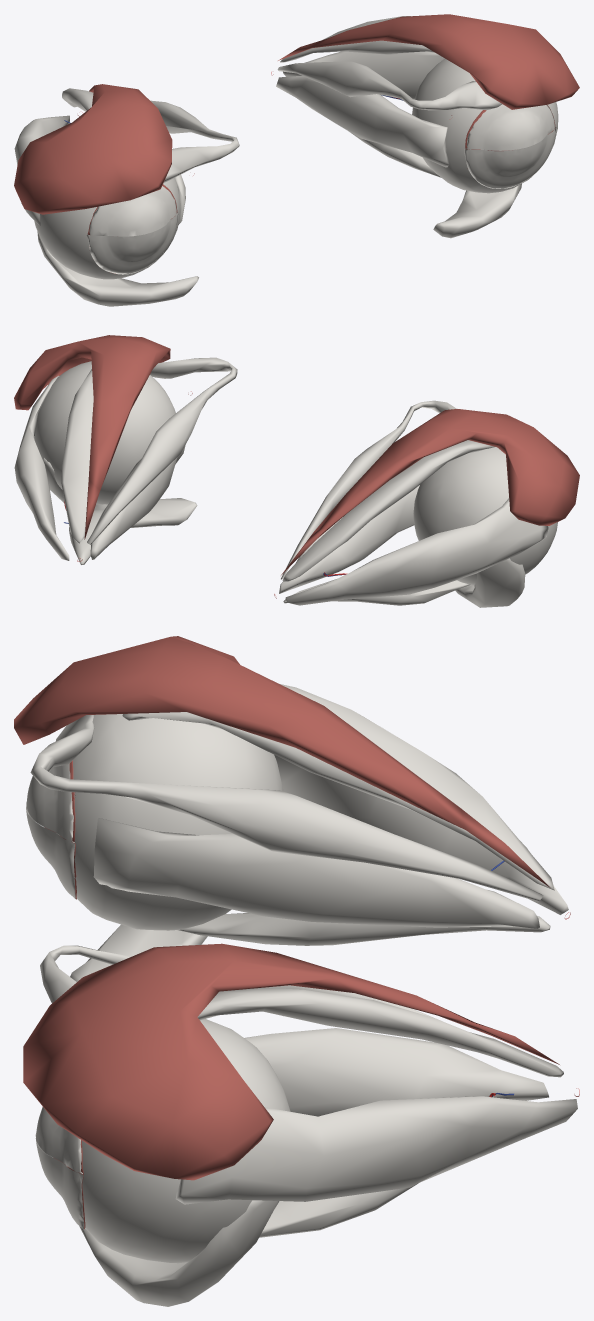
The model's file is adult_female.sensory.LOD2.glb.
3 renders of one model, top to bottom at view 1: azimuth 30°, elevation 25°; view 2: azimuth 150°, elevation 25°; view 3: azimuth 270°, elevation 25°, orthographic. The views are drawn at different scales.
Parts seen in each view (by area): view 1: ADULT.FEMALE.SENSORY.LEVATOR_PALPEBRAE_SUPERIORIS.R, ADULT.FEMALE.SENSORY.LEVATOR_PALPEBRAE_SUPERIORIS.L, ADULT.FEMALE.SENSORY.MEDIAL_RECTUS_EXTRAOCULAR_MUSCLE.L, ADULT.FEMALE.SENSORY.SCLERA.L, ADULT.FEMALE.SENSORY.SUPERIOR_OBLIQUE_EXTRAOCULAR_MUSCLE.L, ADULT.FEMALE.SENSORY.SCLERA.R, ADULT.FEMALE.SENSORY.INFERIOR_OBLIQUE_EXTRAOCULAR_MUSCLE.R, ADULT.FEMALE.SENSORY.PALPEBRAL_CONJUNCTIVA_OF_LEFT_UPPER_EYE, ADULT.FEMALE.SENSORY.PALPEBRAL_CONJUNCTIVA_OF_RIGHT_UPPER_EY, ADULT.FEMALE.SENSORY.PALPEBRAL_CONJUNCTIVA_OF_LEFT_LOWER_EYE, ADULT.FEMALE.SENSORY.PALPEBRAL_CONJUNCTIVA_OF_RIGHT_LOWER_EY, ADULT.FEMALE.SENSORY.LATERAL_RECTUS_EXTRAOCULAR_MUSCLE.L (+6 smaller); view 2: ADULT.FEMALE.SENSORY.LEVATOR_PALPEBRAE_SUPERIORIS.R, ADULT.FEMALE.SENSORY.LATERAL_RECTUS_EXTRAOCULAR_MUSCLE.R, ADULT.FEMALE.SENSORY.LEVATOR_PALPEBRAE_SUPERIORIS.L, ADULT.FEMALE.SENSORY.SCLERA.R, ADULT.FEMALE.SENSORY.SCLERA.L, ADULT.FEMALE.SENSORY.SUPERIOR_OBLIQUE_EXTRAOCULAR_MUSCLE.L, ADULT.FEMALE.SENSORY.SUPERIOR_RECTUS_EXTRAOCULAR_MUSCLE.R, ADULT.FEMALE.SENSORY.SUPERIOR_RECTUS_EXTRAOCULAR_MUSCLE.L, ADULT.FEMALE.SENSORY.MEDIAL_RECTUS_EXTRAOCULAR_MUSCLE.R, ADULT.FEMALE.SENSORY.LATERAL_RECTUS_EXTRAOCULAR_MUSCLE.L, ADULT.FEMALE.SENSORY.SUPERIOR_OBLIQUE_EXTRAOCULAR_MUSCLE.R, ADULT.FEMALE.SENSORY.MEDIAL_RECTUS_EXTRAOCULAR_MUSCLE.L (+4 smaller); view 3: ADULT.FEMALE.SENSORY.LEVATOR_PALPEBRAE_SUPERIORIS.L, ADULT.FEMALE.SENSORY.MEDIAL_RECTUS_EXTRAOCULAR_MUSCLE.R, ADULT.FEMALE.SENSORY.LEVATOR_PALPEBRAE_SUPERIORIS.R, ADULT.FEMALE.SENSORY.LATERAL_RECTUS_EXTRAOCULAR_MUSCLE.L, ADULT.FEMALE.SENSORY.SCLERA.R, ADULT.FEMALE.SENSORY.SUPERIOR_OBLIQUE_EXTRAOCULAR_MUSCLE.R, ADULT.FEMALE.SENSORY.MEDIAL_RECTUS_EXTRAOCULAR_MUSCLE.L, ADULT.FEMALE.SENSORY.SCLERA.L, ADULT.FEMALE.SENSORY.SUPERIOR_RECTUS_EXTRAOCULAR_MUSCLE.R, ADULT.FEMALE.SENSORY.SUPERIOR_RECTUS_EXTRAOCULAR_MUSCLE.L, ADULT.FEMALE.SENSORY.LATERAL_RECTUS_EXTRAOCULAR_MUSCLE.R, ADULT.FEMALE.SENSORY.INFERIOR_OBLIQUE_EXTRAOCULAR_MUSCLE.L (+8 smaller).
Boxes of the visible parts, left/top/right/bottom form: ADULT.FEMALE.SENSORY.LEVATOR_PALPEBRAE_SUPERIORIS.R: left=14, top=84, right=172, bottom=214; ADULT.FEMALE.SENSORY.LEVATOR_PALPEBRAE_SUPERIORIS.L: left=278, top=14, right=579, bottom=109; ADULT.FEMALE.SENSORY.MEDIAL_RECTUS_EXTRAOCULAR_MUSCLE.L: left=276, top=76, right=449, bottom=167; ADULT.FEMALE.SENSORY.SCLERA.L: left=412, top=58, right=558, bottom=193; ADULT.FEMALE.SENSORY.SUPERIOR_OBLIQUE_EXTRAOCULAR_MUSCLE.L: left=277, top=61, right=502, bottom=110; ADULT.FEMALE.SENSORY.SCLERA.R: left=34, top=178, right=180, bottom=279; ADULT.FEMALE.SENSORY.INFERIOR_OBLIQUE_EXTRAOCULAR_MUSCLE.R: left=37, top=231, right=198, bottom=306; ADULT.FEMALE.SENSORY.PALPEBRAL_CONJUNCTIVA_OF_LEFT_UPPER_EYE: left=465, top=104, right=555, bottom=150; ADULT.FEMALE.SENSORY.PALPEBRAL_CONJUNCTIVA_OF_RIGHT_UPPER_EY: left=87, top=186, right=176, bottom=236; ADULT.FEMALE.SENSORY.PALPEBRAL_CONJUNCTIVA_OF_LEFT_LOWER_EYE: left=464, top=127, right=556, bottom=188; ADULT.FEMALE.SENSORY.PALPEBRAL_CONJUNCTIVA_OF_RIGHT_LOWER_EY: left=86, top=212, right=178, bottom=274; ADULT.FEMALE.SENSORY.LATERAL_RECTUS_EXTRAOCULAR_MUSCLE.L: left=283, top=51, right=444, bottom=99; ADULT.FEMALE.SENSORY.LEVATOR_PALPEBRAE_SUPERIORIS.R: left=281, top=409, right=579, bottom=575; ADULT.FEMALE.SENSORY.LATERAL_RECTUS_EXTRAOCULAR_MUSCLE.R: left=285, top=498, right=548, bottom=605; ADULT.FEMALE.SENSORY.LEVATOR_PALPEBRAE_SUPERIORIS.L: left=14, top=335, right=170, bottom=539; ADULT.FEMALE.SENSORY.SCLERA.R: left=413, top=447, right=557, bottom=585; ADULT.FEMALE.SENSORY.SCLERA.L: left=34, top=361, right=175, bottom=504; ADULT.FEMALE.SENSORY.SUPERIOR_OBLIQUE_EXTRAOCULAR_MUSCLE.L: left=87, top=357, right=237, bottom=544; ADULT.FEMALE.SENSORY.SUPERIOR_RECTUS_EXTRAOCULAR_MUSCLE.R: left=282, top=440, right=494, bottom=581; ADULT.FEMALE.SENSORY.SUPERIOR_RECTUS_EXTRAOCULAR_MUSCLE.L: left=61, top=369, right=93, bottom=543; ADULT.FEMALE.SENSORY.MEDIAL_RECTUS_EXTRAOCULAR_MUSCLE.R: left=279, top=485, right=419, bottom=593; ADULT.FEMALE.SENSORY.LATERAL_RECTUS_EXTRAOCULAR_MUSCLE.L: left=14, top=375, right=69, bottom=560; ADULT.FEMALE.SENSORY.SUPERIOR_OBLIQUE_EXTRAOCULAR_MUSCLE.R: left=281, top=400, right=456, bottom=579; ADULT.FEMALE.SENSORY.MEDIAL_RECTUS_EXTRAOCULAR_MUSCLE.L: left=90, top=445, right=185, bottom=559; ADULT.FEMALE.SENSORY.LEVATOR_PALPEBRAE_SUPERIORIS.L: left=23, top=943, right=559, bottom=1180; ADULT.FEMALE.SENSORY.MEDIAL_RECTUS_EXTRAOCULAR_MUSCLE.R: left=93, top=818, right=539, bottom=928; ADULT.FEMALE.SENSORY.LEVATOR_PALPEBRAE_SUPERIORIS.R: left=14, top=636, right=550, bottom=887; ADULT.FEMALE.SENSORY.LATERAL_RECTUS_EXTRAOCULAR_MUSCLE.L: left=175, top=1096, right=577, bottom=1204; ADULT.FEMALE.SENSORY.SCLERA.R: left=58, top=714, right=283, bottom=930; ADULT.FEMALE.SENSORY.SUPERIOR_OBLIQUE_EXTRAOCULAR_MUSCLE.R: left=30, top=715, right=543, bottom=901; ADULT.FEMALE.SENSORY.MEDIAL_RECTUS_EXTRAOCULAR_MUSCLE.L: left=244, top=1028, right=548, bottom=1116; ADULT.FEMALE.SENSORY.SCLERA.L: left=82, top=1019, right=290, bottom=1263; ADULT.FEMALE.SENSORY.SUPERIOR_RECTUS_EXTRAOCULAR_MUSCLE.R: left=122, top=684, right=554, bottom=890; ADULT.FEMALE.SENSORY.SUPERIOR_RECTUS_EXTRAOCULAR_MUSCLE.L: left=197, top=987, right=563, bottom=1077; ADULT.FEMALE.SENSORY.LATERAL_RECTUS_EXTRAOCULAR_MUSCLE.R: left=274, top=755, right=568, bottom=914; ADULT.FEMALE.SENSORY.INFERIOR_OBLIQUE_EXTRAOCULAR_MUSCLE.L: left=79, top=1200, right=278, bottom=1306.
Bounding box in the file's own units: 0.105 × 0.0374 × 0.0557.
